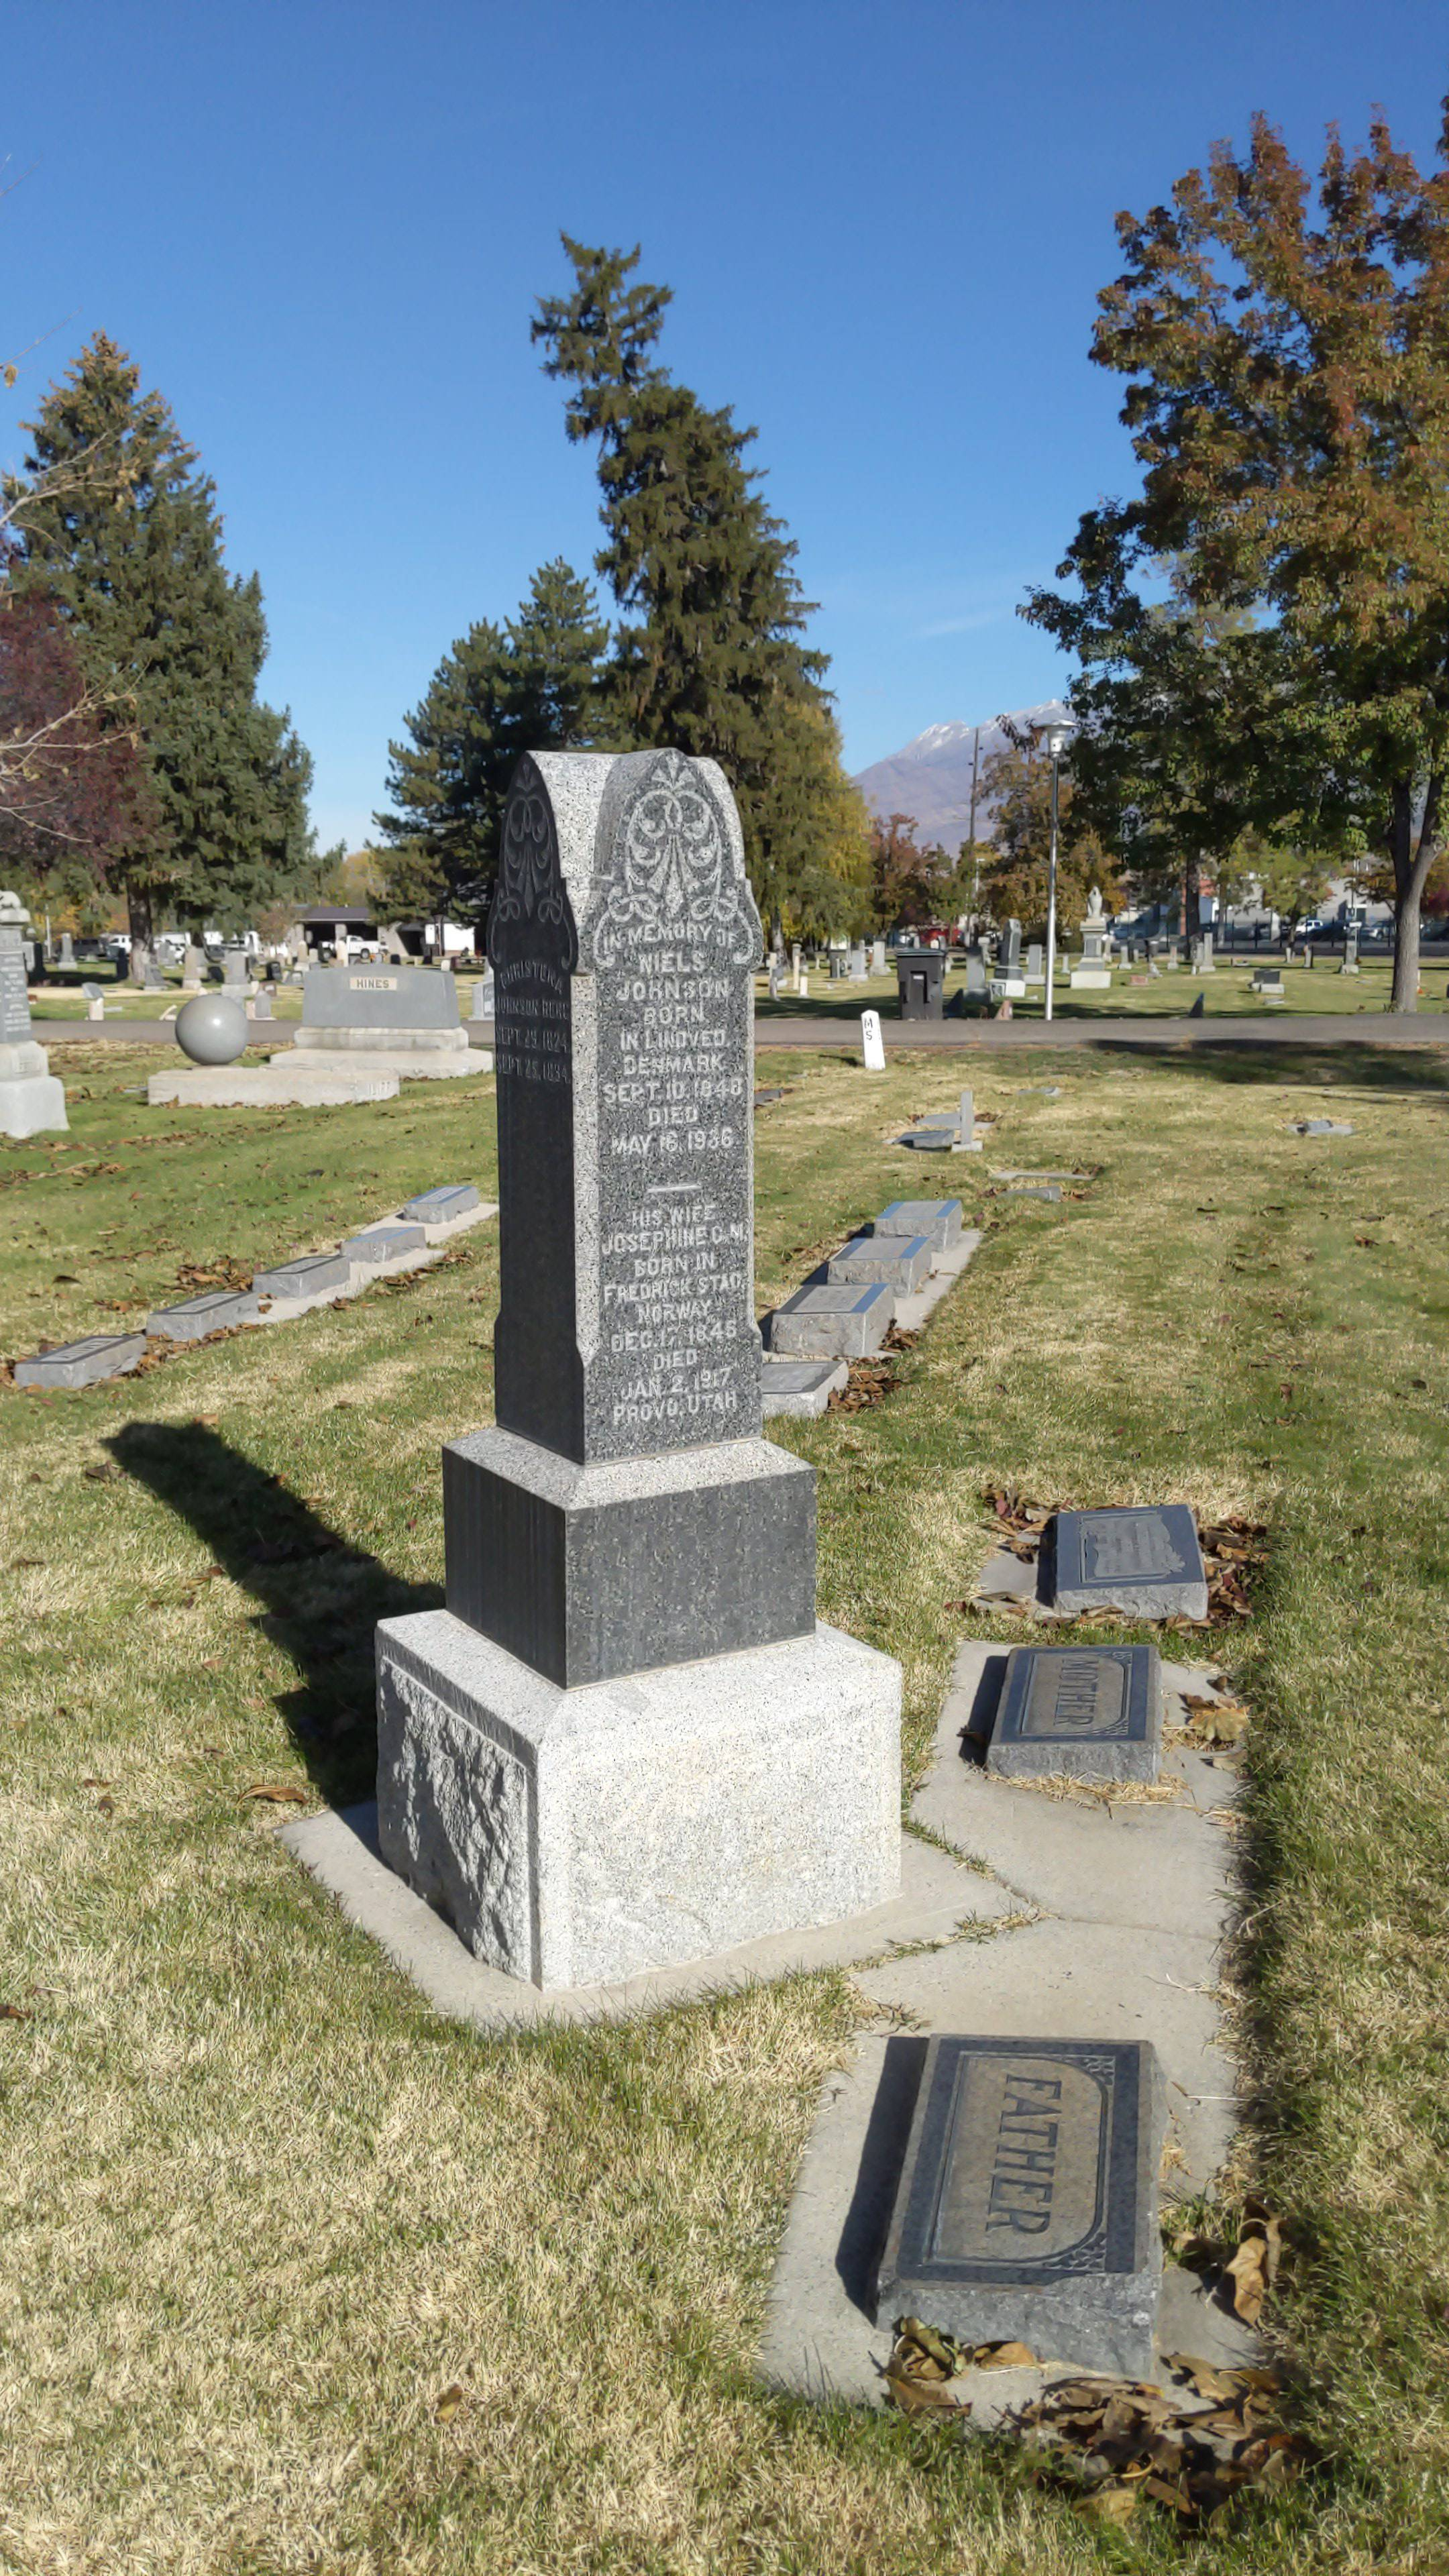obelisk: (448, 741, 816, 1690)
